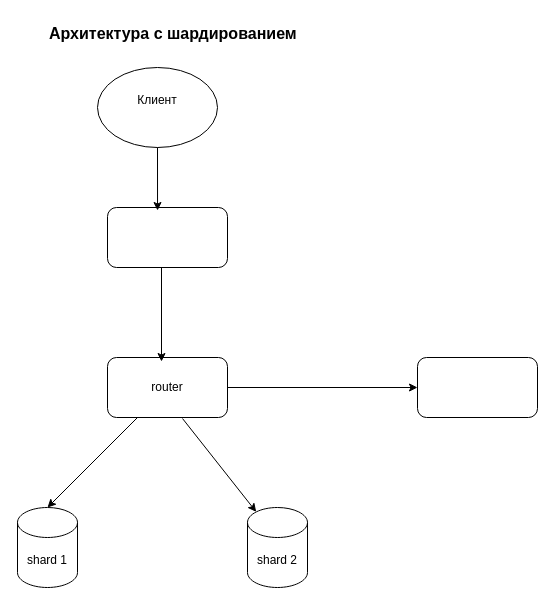
Image size: 555x605. Some labels were removed from this diagram. Here are the shapes that lost their labels. From the top down, the centre of each, then its label:
At (167,237): "pymongo-api".
At (477,387): "configSrv".
